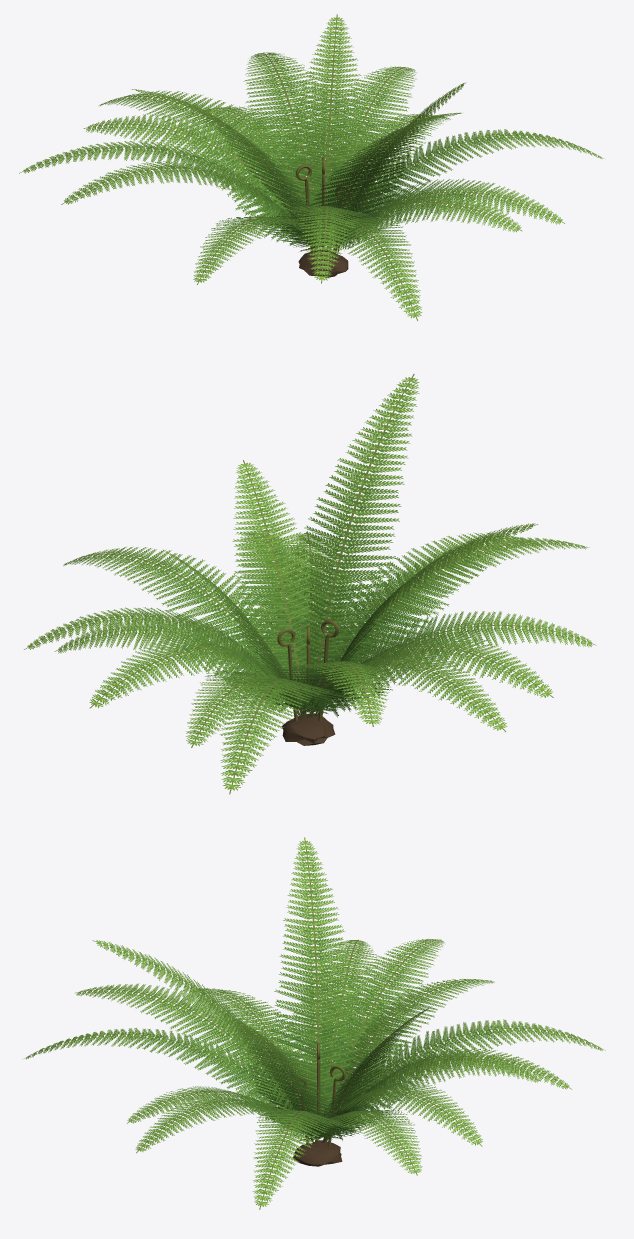
File: fern.glb
3 views of the same model, one above another, from view 1: azimuth 30°, elevation 25°; view 2: azimuth 150°, elevation 25°; view 3: azimuth 270°, elevation 25° (orthographic). The views are drawn at different scales.
Parts seen in each view (by area): view 1: Fern; view 2: Fern; view 3: Fern.
Boxes of the visible parts, x1,y1,x2,y2 form: Fern: (19,14,603,320); Fern: (24,374,596,794); Fern: (22,837,605,1209).
Bounding box in the file's own units: 2.42 × 1.05 × 2.52.
Materials: 3 (1 with a texture image).
